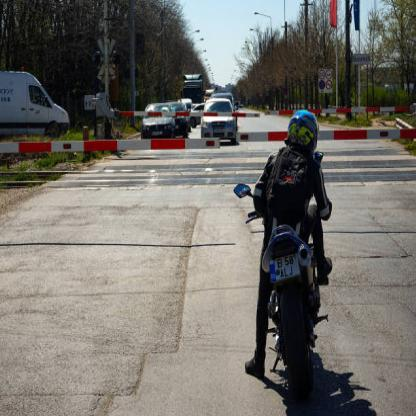Motorcycle: (227, 176, 338, 393)
